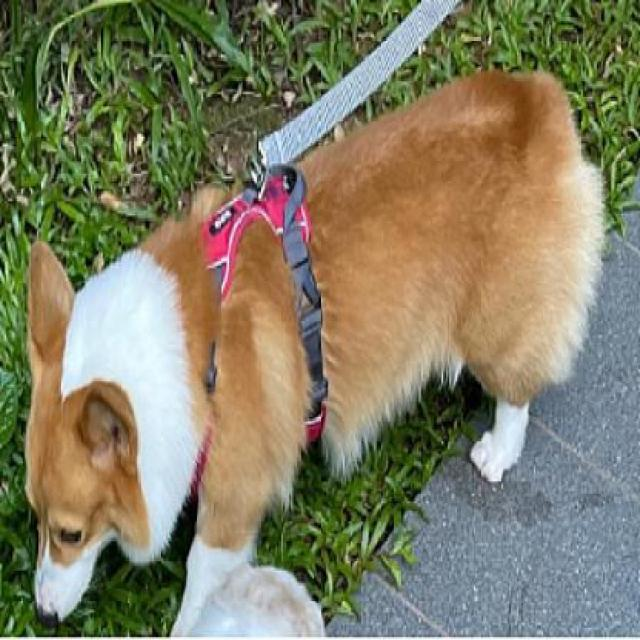Dog: (0, 64, 614, 638)
